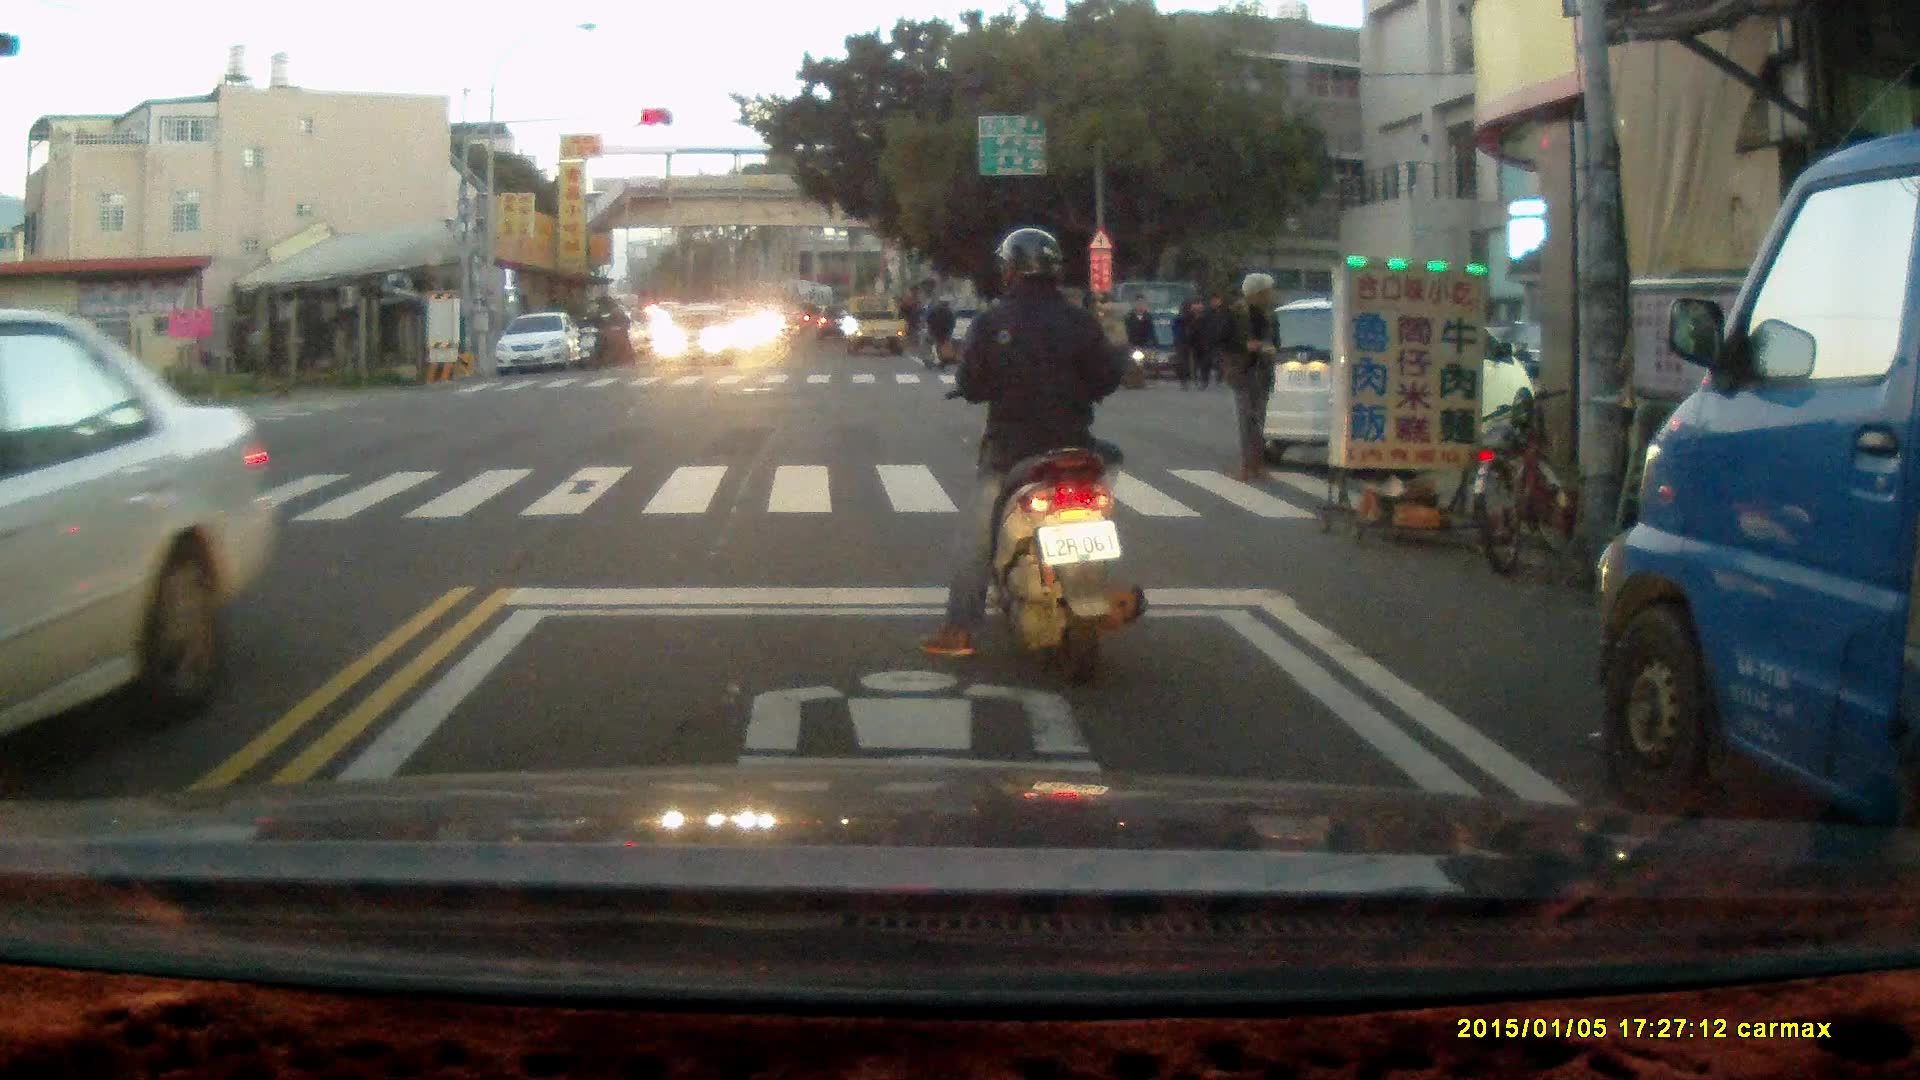pedestrian: (1212, 272, 1285, 481), (1119, 291, 1160, 391), (1169, 292, 1203, 391)
rider: (918, 224, 1149, 686), (1070, 297, 1147, 389), (916, 289, 960, 373), (577, 301, 612, 372), (595, 300, 632, 367)
vehicle: (1596, 120, 1920, 901), (1, 327, 272, 780), (1236, 303, 1533, 462), (651, 300, 742, 369), (493, 311, 584, 378), (842, 295, 907, 358)
